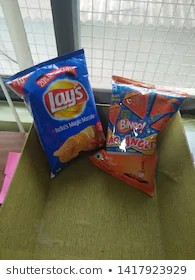lays-small: (10, 28, 103, 188)
